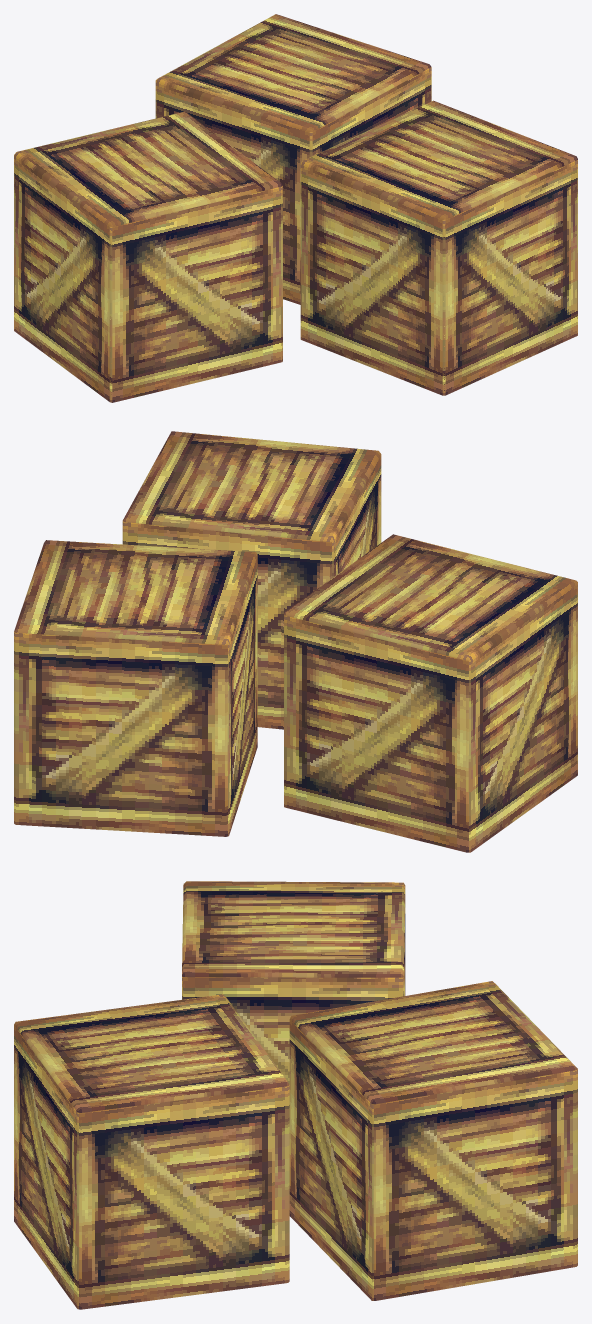
Rendered from wbox48-3.glb.
3 views of the same model, one above another, from view 1: azimuth 30°, elevation 25°; view 2: azimuth 150°, elevation 25°; view 3: azimuth 270°, elevation 25° (orthographic). The views are drawn at different scales.
Parts seen in each view (by area): view 1: wbox48_3; view 2: wbox48_3; view 3: wbox48_3.
Part boxes in pixels (x1=…): wbox48_3: x1=14, y1=14, x2=577, y2=402; wbox48_3: x1=14, y1=431, x2=577, y2=852; wbox48_3: x1=14, y1=881, x2=577, y2=1309.
Size of the model in its own units: 343 by 139 by 356.
Materials: 2 (2 with a texture image).
